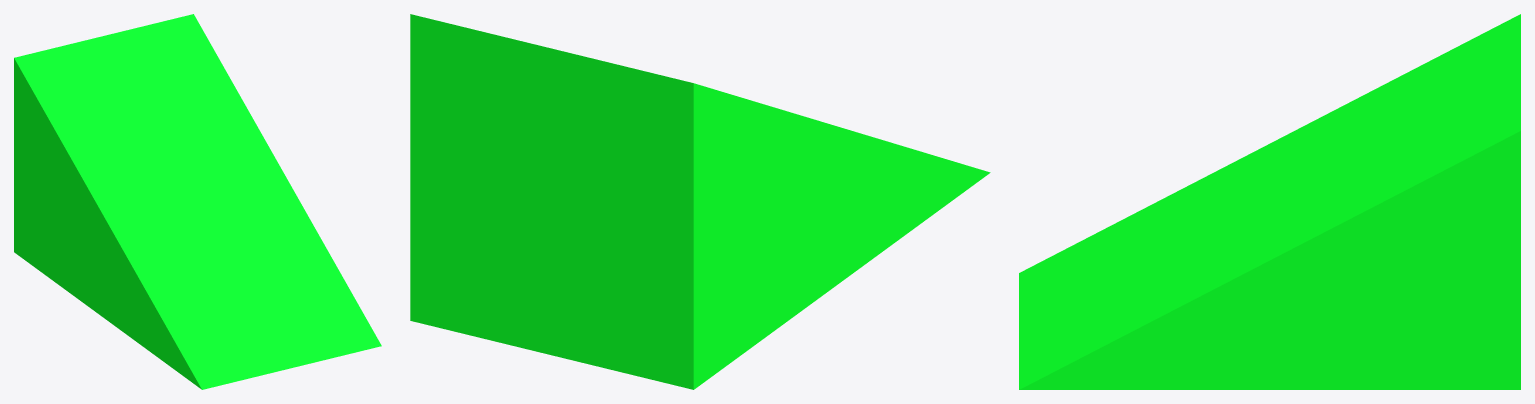
File: BaseRamp.004.glb
The picture shows the model from 3 angles, left to right: view 1: azimuth 30°, elevation 25°; view 2: azimuth 150°, elevation 25°; view 3: azimuth 270°, elevation 25°; orthographic projection. The views are drawn at different scales.
Parts seen in each view (by area): view 1: BaseRamp.004; view 2: BaseRamp.004; view 3: BaseRamp.004.
Part boxes in pixels (left/top/right/bottom): BaseRamp.004: left=14, top=14, right=381, bottom=389; BaseRamp.004: left=410, top=14, right=990, bottom=389; BaseRamp.004: left=1019, top=14, right=1520, bottom=389.
Size of what is drawn, in the model's own units: 1.85 by 1.91 by 3.35.
1 material, 1 textured.
